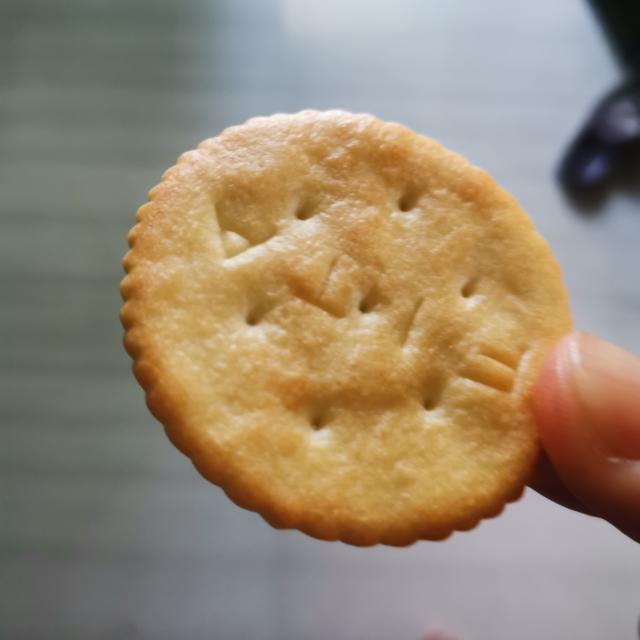Intact: (109, 100, 585, 557)
